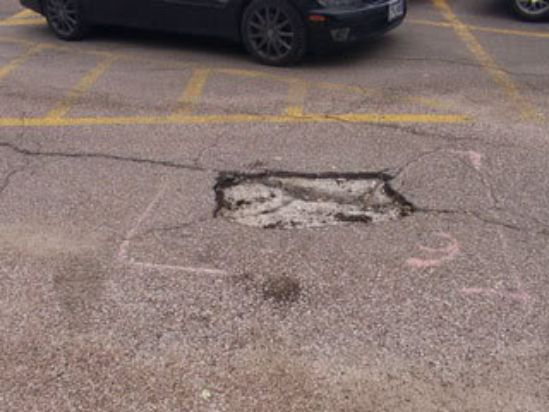pothole: (204, 164, 419, 232)
